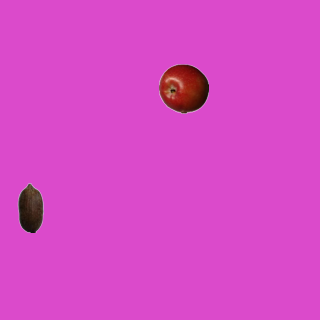Apple Braeburn: (158, 63, 208, 113)
Nut Pecan: (5, 182, 55, 232)
